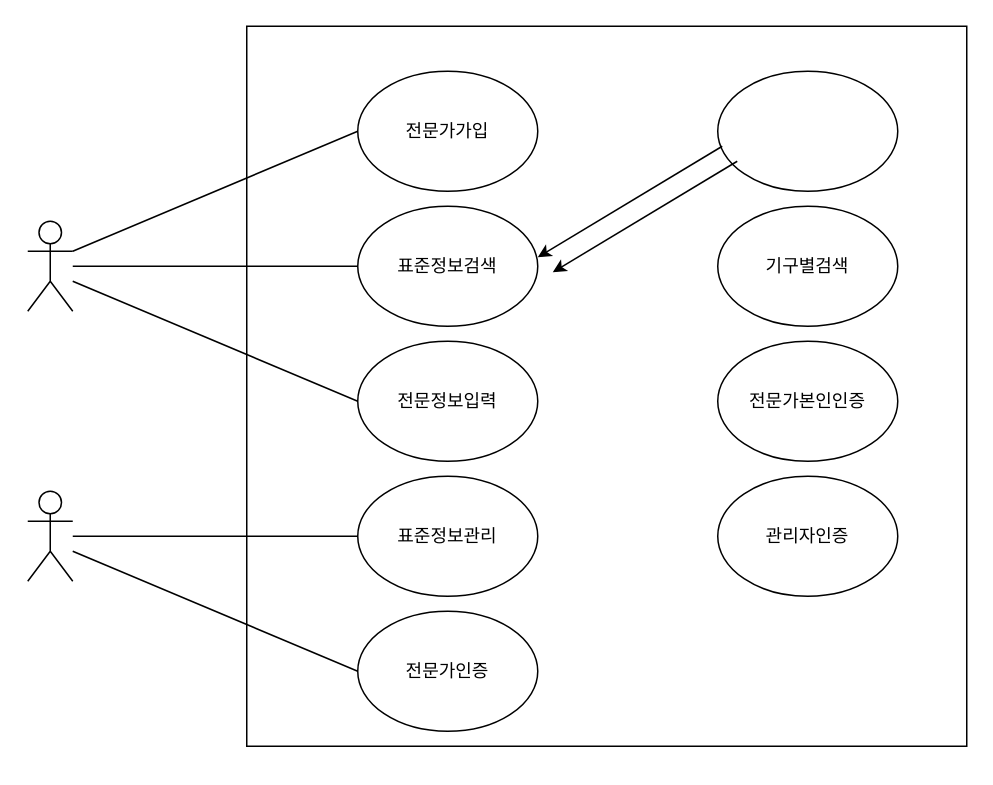
The diagram is 993 pixels wide and 785 high, and some of its shapes have lost their labels. Here are the shapes that lost their labels. From the top down, the centre of each, then its label:
At point (807, 130): "기술별검색".
At point (49, 265): "전문가".
At point (49, 535): "관리자".
